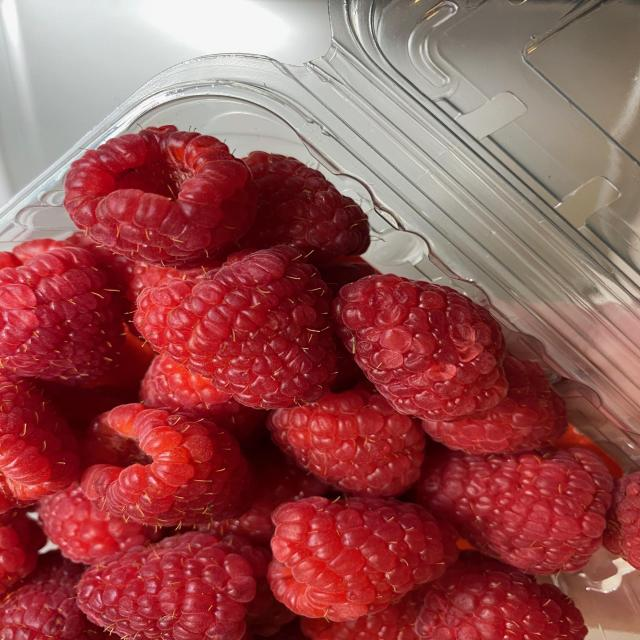raspberries: (21, 128, 588, 638)
